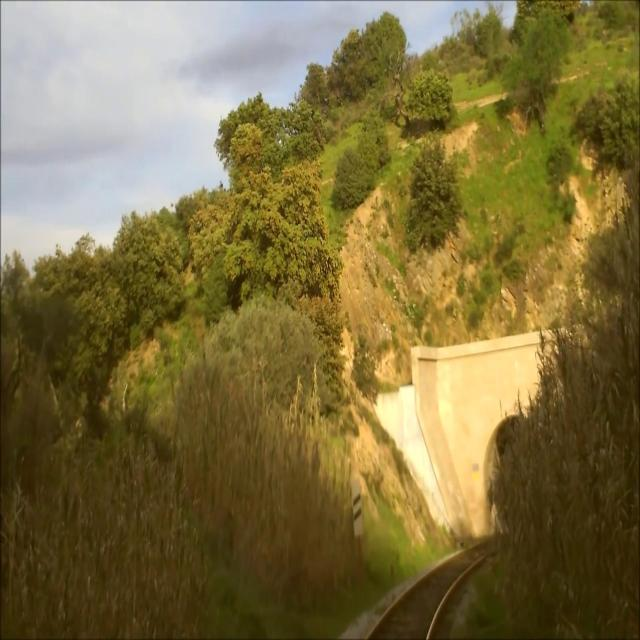rail-track: (373, 551, 479, 639)
